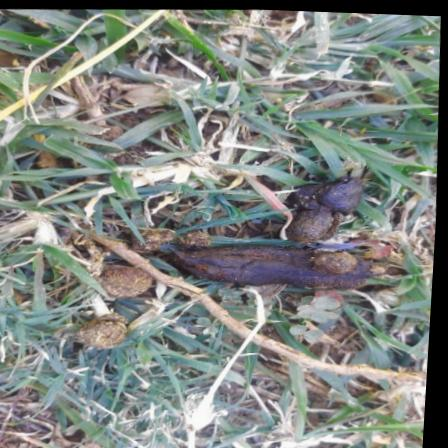dog-poop: (161, 166, 408, 297), (73, 244, 162, 361)
